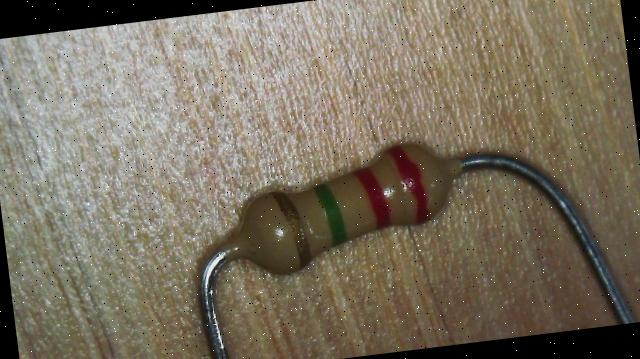gold: (271, 188, 311, 268)
green: (313, 180, 349, 247)
red: (388, 141, 430, 224), (354, 165, 392, 230)
resistor: (197, 116, 477, 299)
